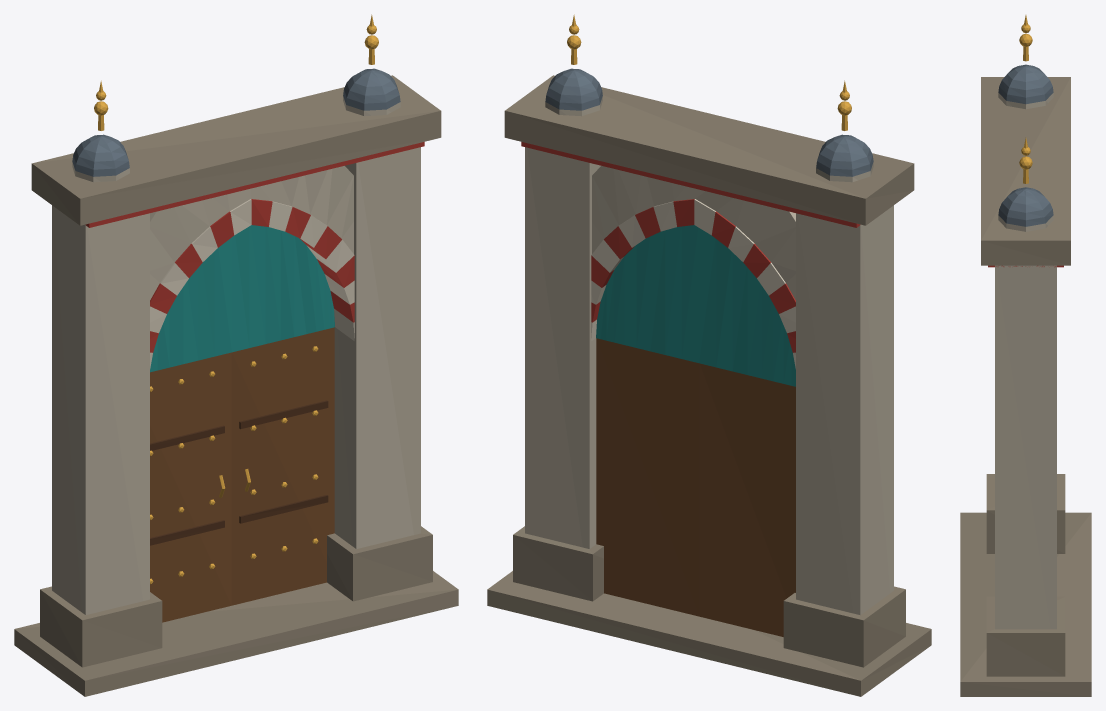
File: ZB_yapi_bahce_kapisi.glb
3 views of the same model, side by side, from view 1: azimuth 30°, elevation 25°; view 2: azimuth 150°, elevation 25°; view 3: azimuth 270°, elevation 25° (orthographic). The views are drawn at different scales.
Parts seen in each view (by area): view 1: ZB_yapi_bahce_kapisi, kanat_sag, kanat_sol; view 2: ZB_yapi_bahce_kapisi, kanat_sag, kanat_sol; view 3: ZB_yapi_bahce_kapisi.
Boxes of the visible parts, left/top/right/bottom form: ZB_yapi_bahce_kapisi: left=14, top=14, right=458, bottom=696; kanat_sag: left=231, top=327, right=334, bottom=605; kanat_sol: left=150, top=352, right=231, bottom=622; ZB_yapi_bahce_kapisi: left=487, top=14, right=931, bottom=696; kanat_sag: left=596, top=338, right=699, bottom=616; kanat_sol: left=699, top=363, right=795, bottom=636; ZB_yapi_bahce_kapisi: left=960, top=15, right=1091, bottom=696.
Bounding box in the file's own units: 2.9 × 4.29 × 0.95.
